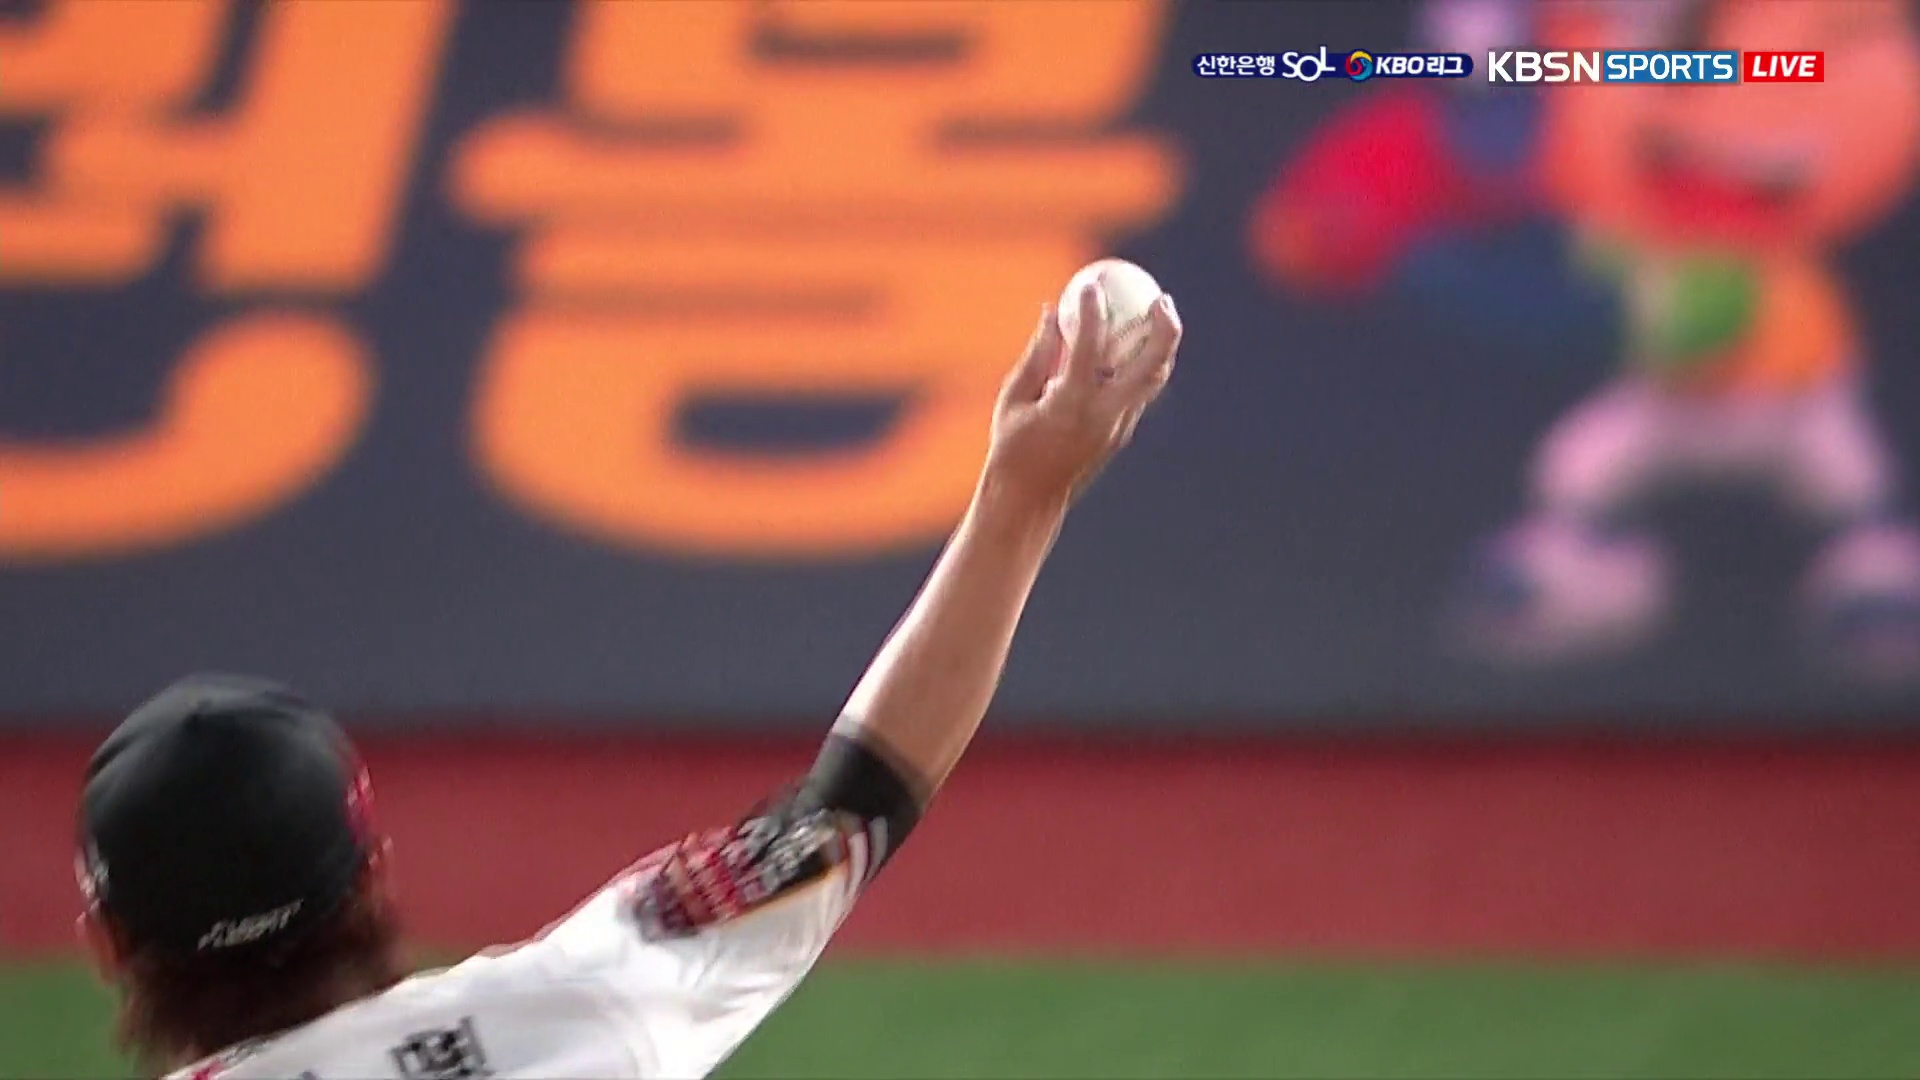zoomin_hand: (764, 251, 1187, 894)
